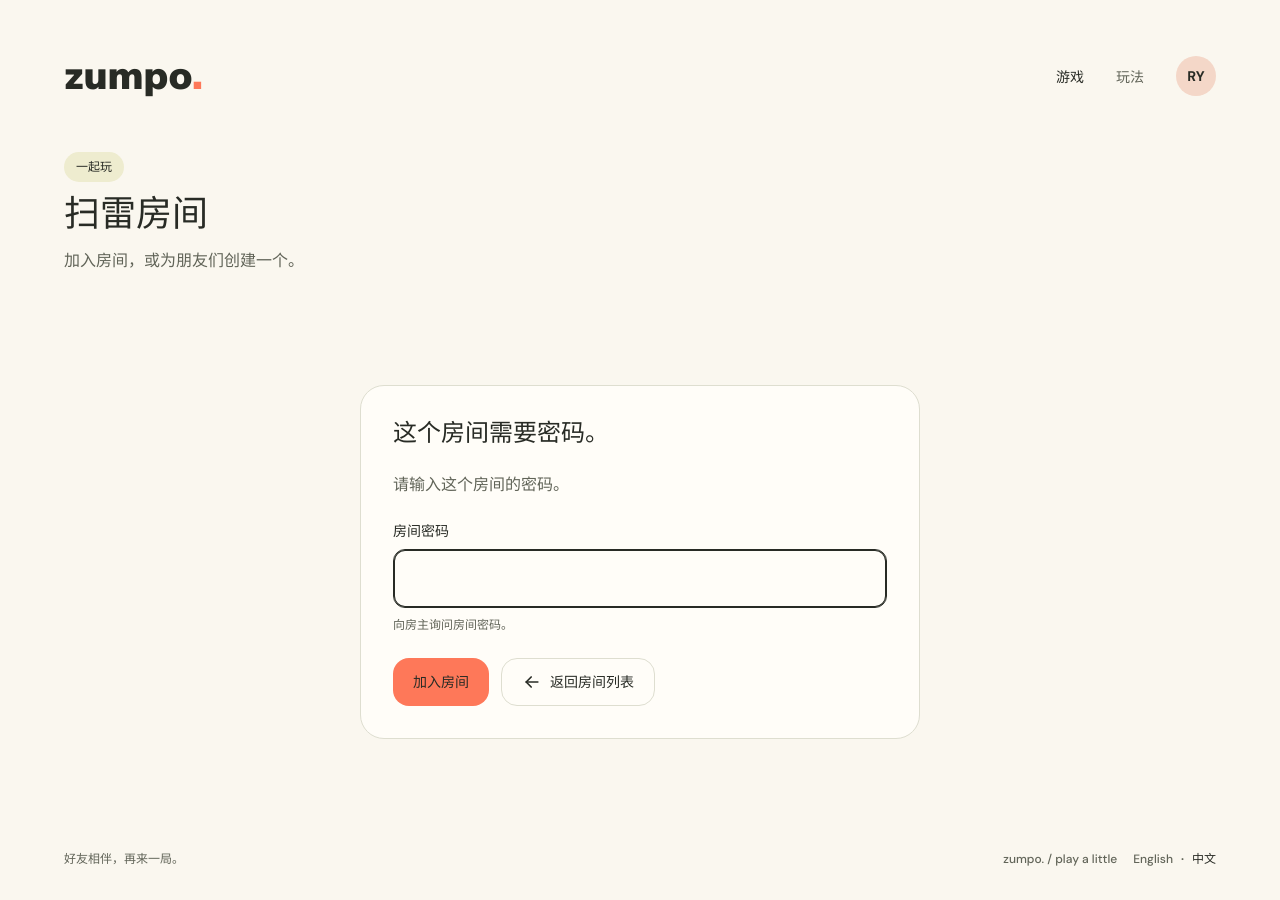
it: a room page › asks for and rejects a room password in Chinese
Expected: the heading "这个房间需要密码。" is shown, [393,416,609,448]
Type "wrong" into the password field labelled "房间密码" at [640, 578], box [393,548,887,608]
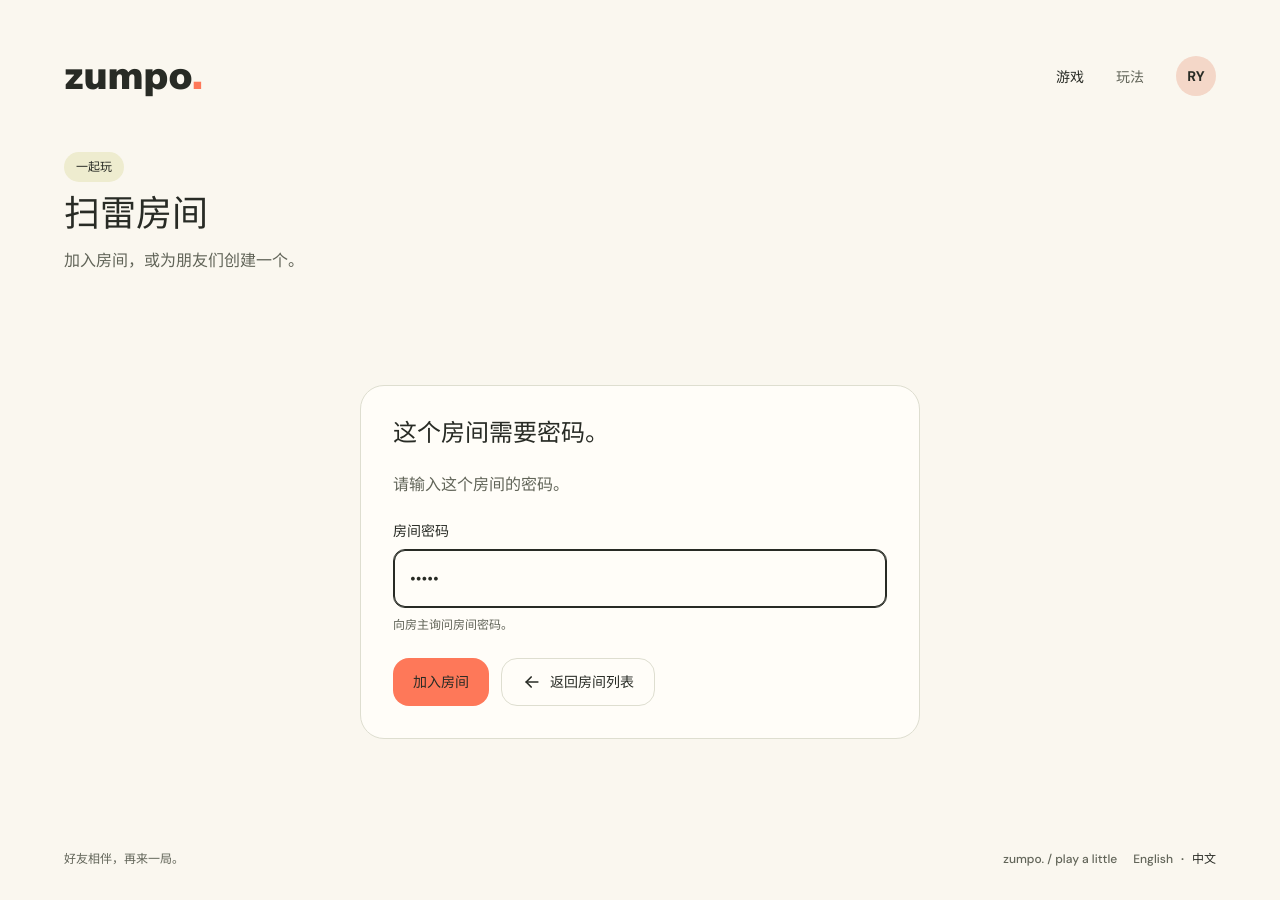
Click the button "加入房间" at [441, 682], box [393,658,489,706]
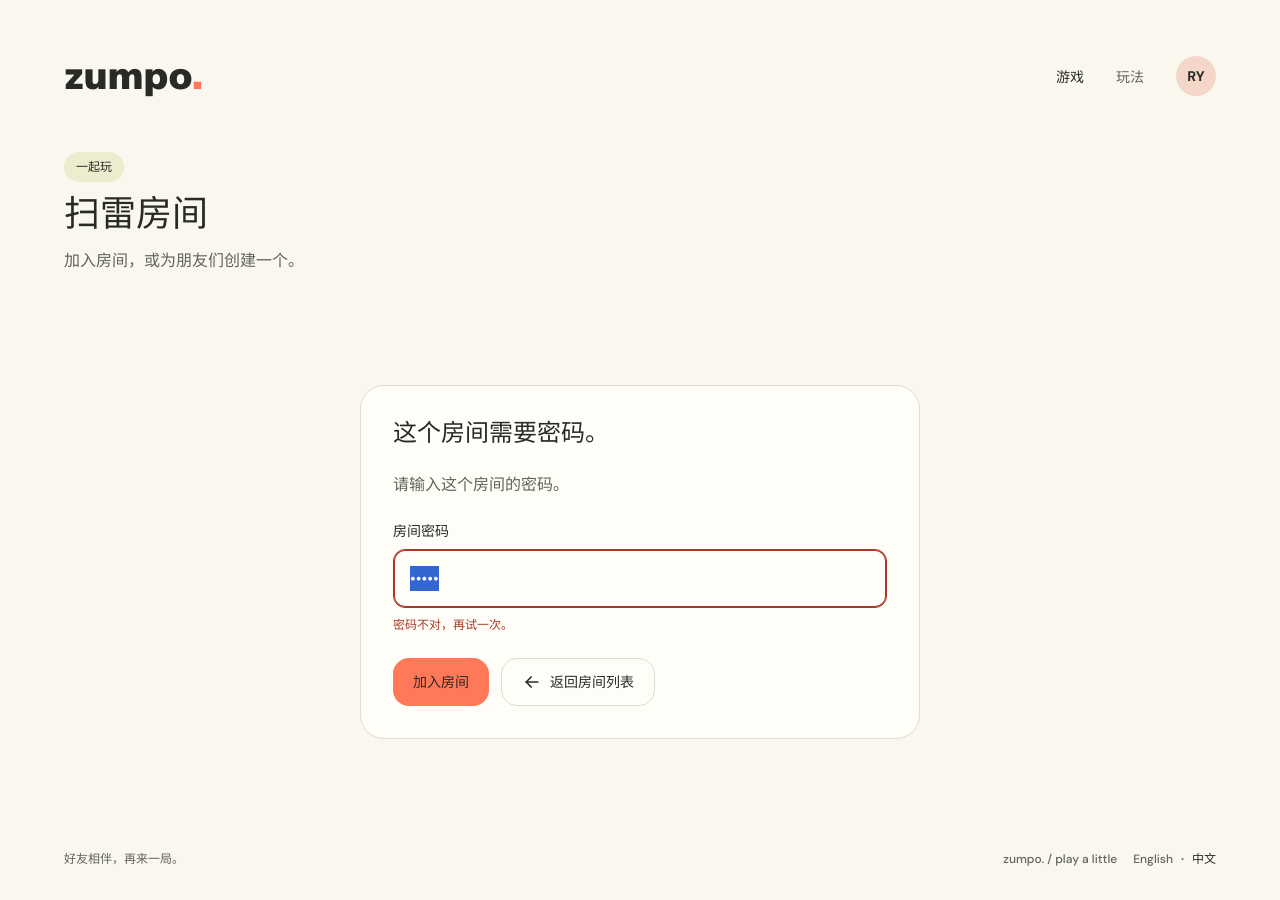
Now the text "密码不对，再试一次。" is shown, box [393,616,513,632]
